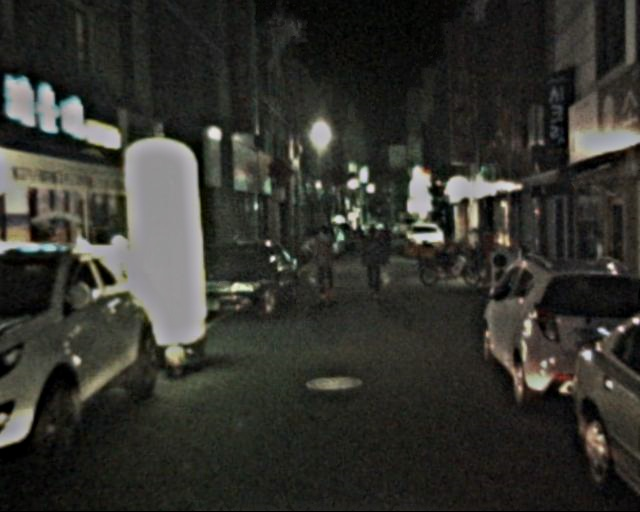person: (307, 222, 339, 300), (358, 227, 387, 298)
